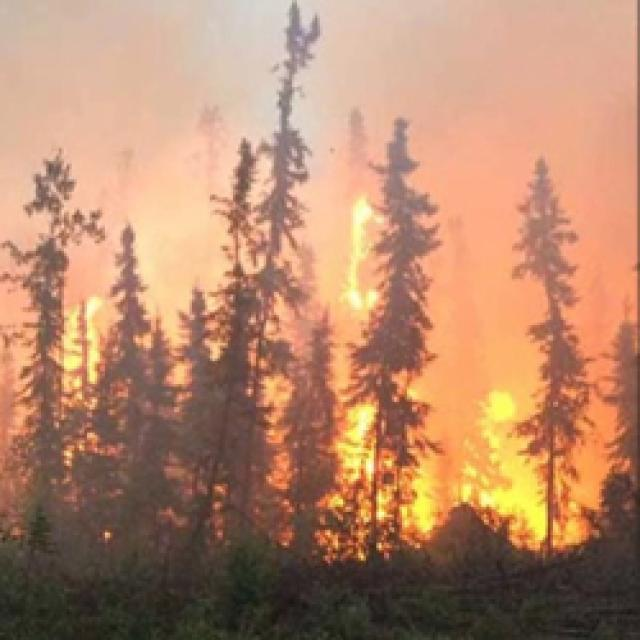Fire: (338, 379, 433, 548), (458, 382, 552, 546), (340, 188, 380, 318), (61, 292, 105, 401)
Smoke: (0, 0, 335, 292), (337, 0, 640, 187), (409, 187, 640, 379), (0, 292, 36, 522)
